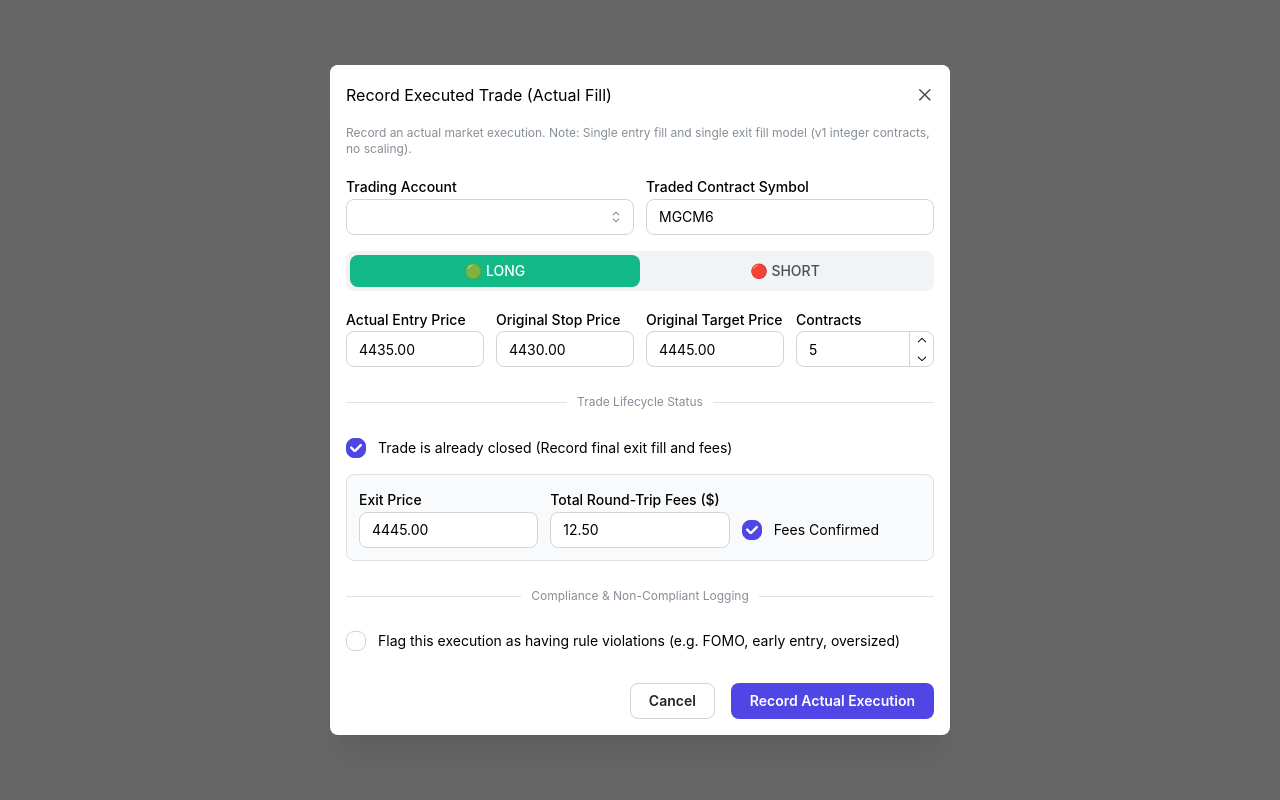
Test case: TradeRecordExecutionModal Component › renders modal and handles unconfirmed fees with warning
Expected: the heading "Record Executed Trade (Actual Fill)" is shown, [346, 87, 612, 103]
Expected: the text "Trade is already closed (Record final exit fill and fees)" is shown, [366, 438, 732, 458]
# Uncheck fees confirmed
Click the checkbox labelled "Fees Confirmed". click: [752, 530]
box: [742, 520, 762, 540]
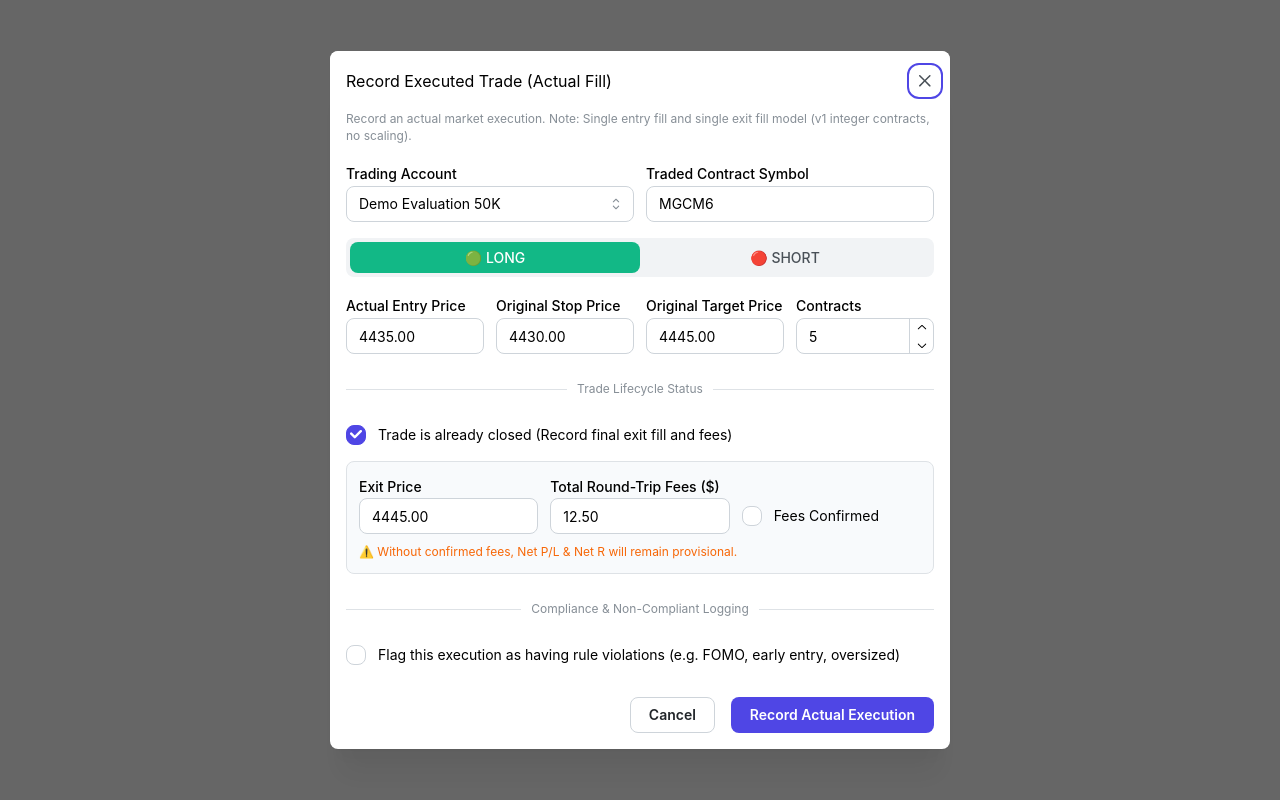
Now the checkbox labelled "Fees Confirmed" is not checked, box [742, 506, 762, 526]
Now the text "Without confirmed fees, Net P/L & Net R will remain provisional" is shown, box [359, 544, 737, 559]
